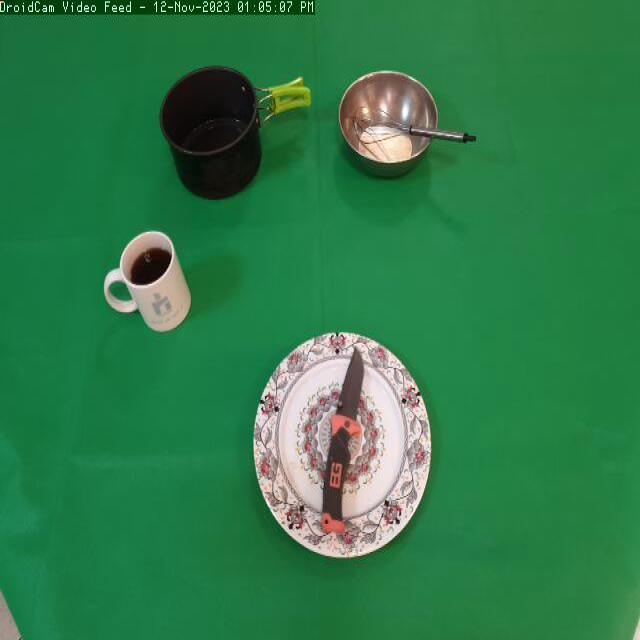bowl: (335, 65, 439, 179)
fullcup: (102, 224, 195, 338)
knife: (317, 338, 373, 534)
plate: (250, 327, 437, 573)
pot: (154, 59, 282, 208)
whisk: (348, 98, 483, 155)
